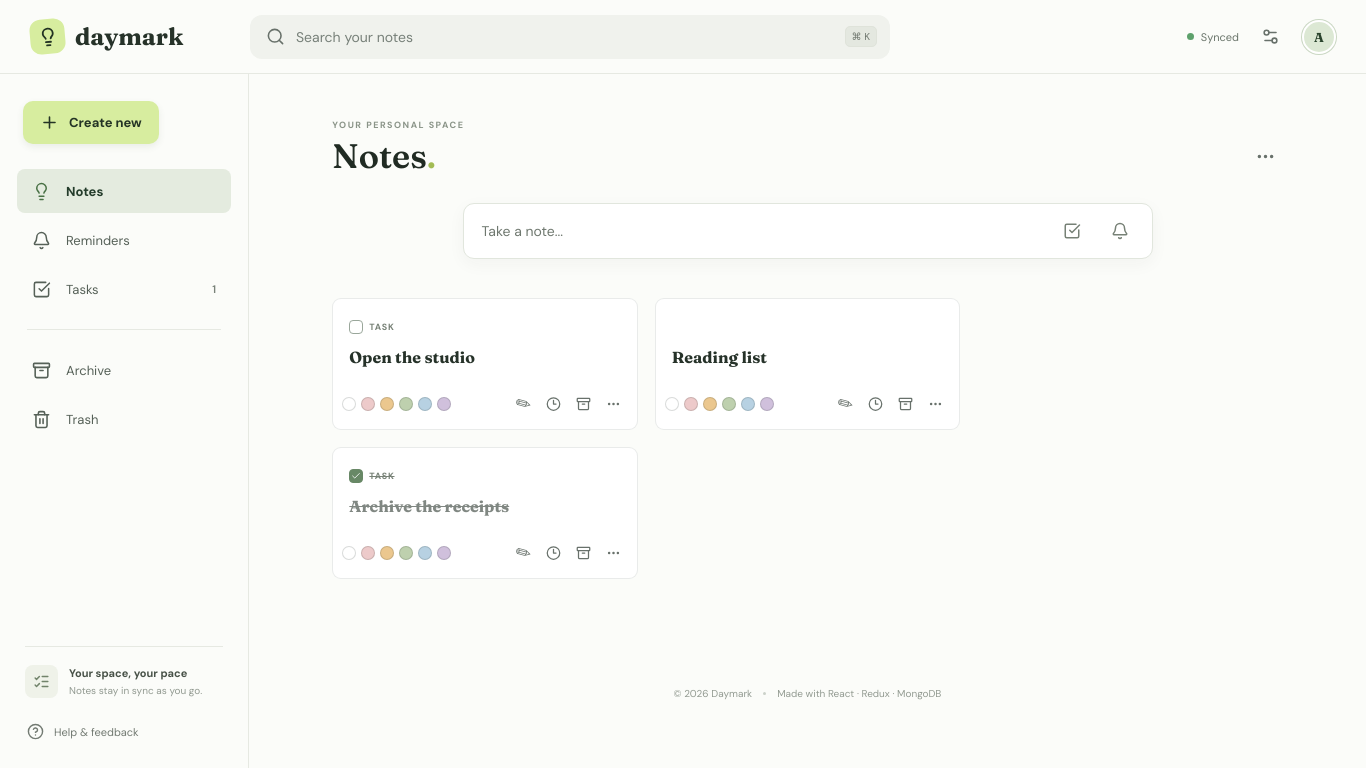
Test case: shows only active tasks in the Tasks view
Click the button "Tasks 1" at x=124, y=289, box [17,267,231,311]
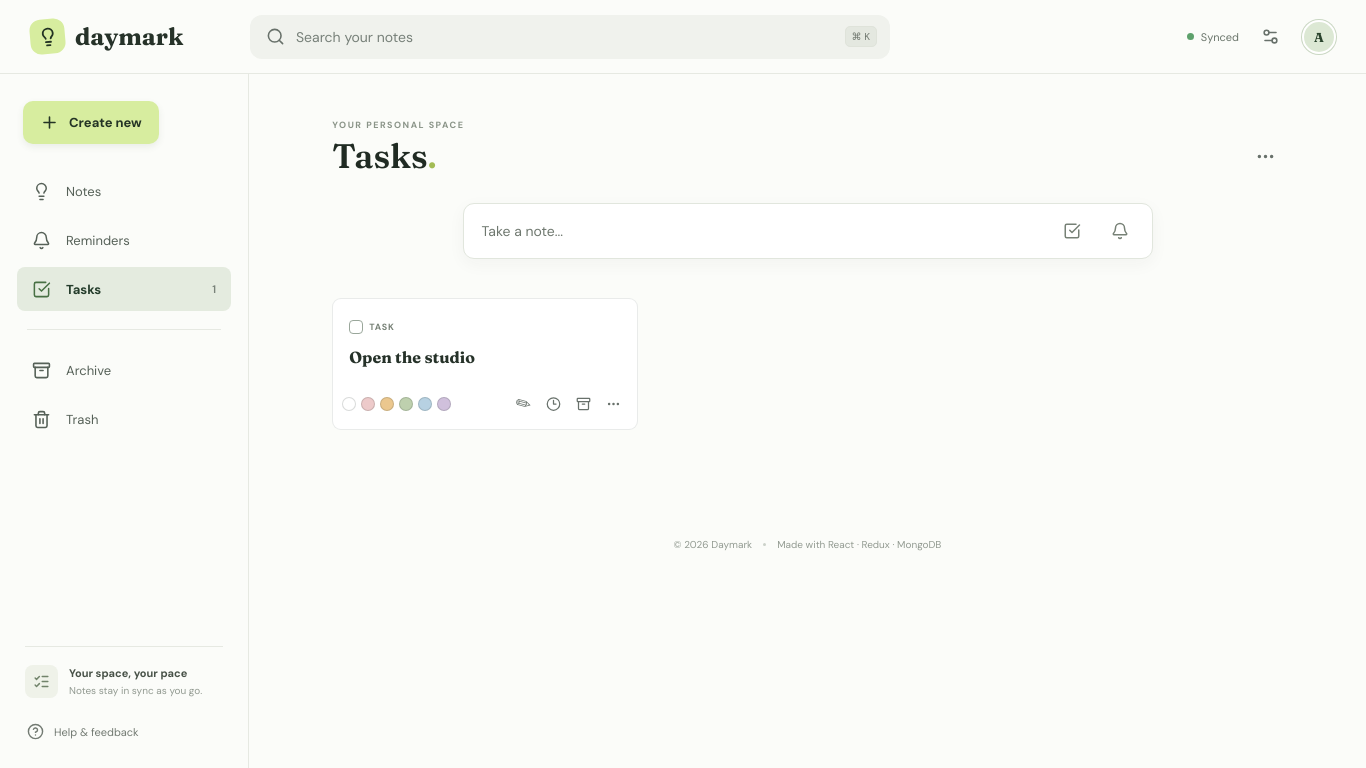
Expected: the heading "Open the studio" is shown, [349,347,475,367]
Expected: the heading "Archive the receipts" is gone
Expected: the heading "Reading list" is gone
